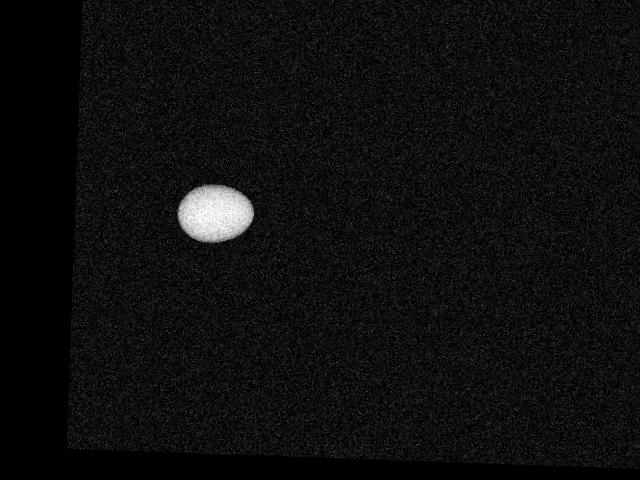egg: (176, 182, 254, 243)
